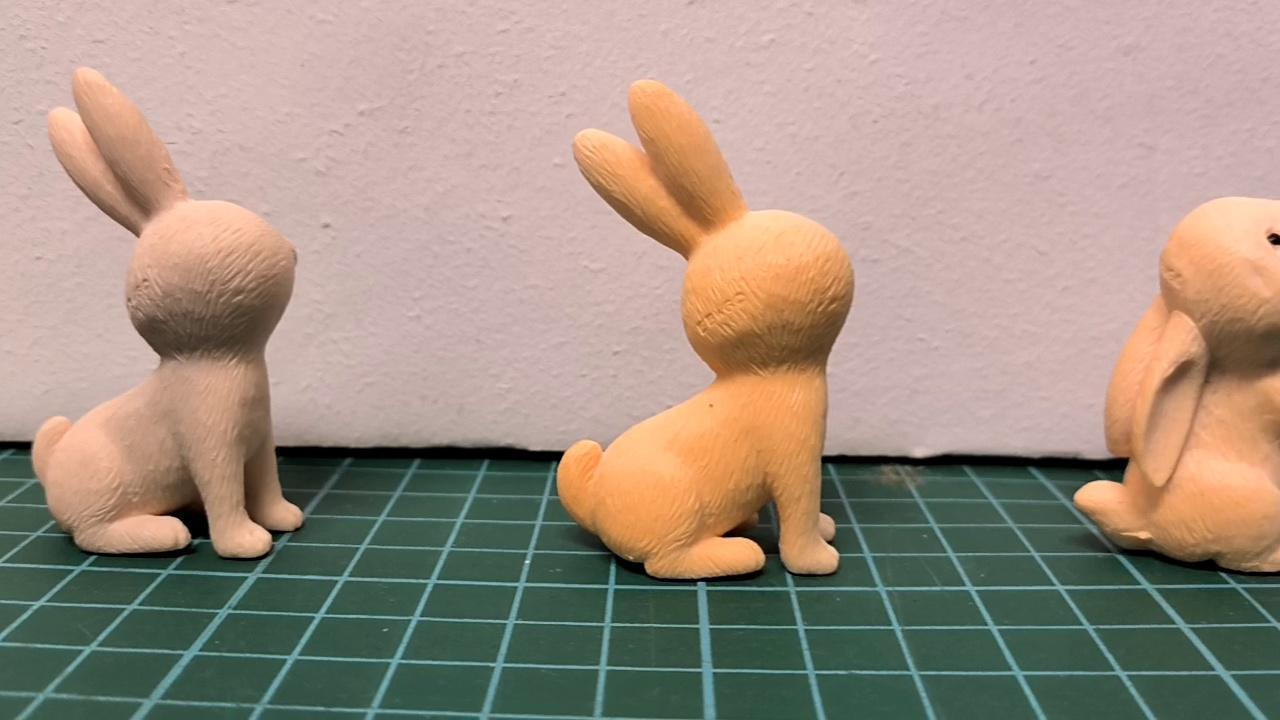pet: (560, 79, 856, 580), (32, 67, 301, 561), (1071, 196, 1280, 575)
